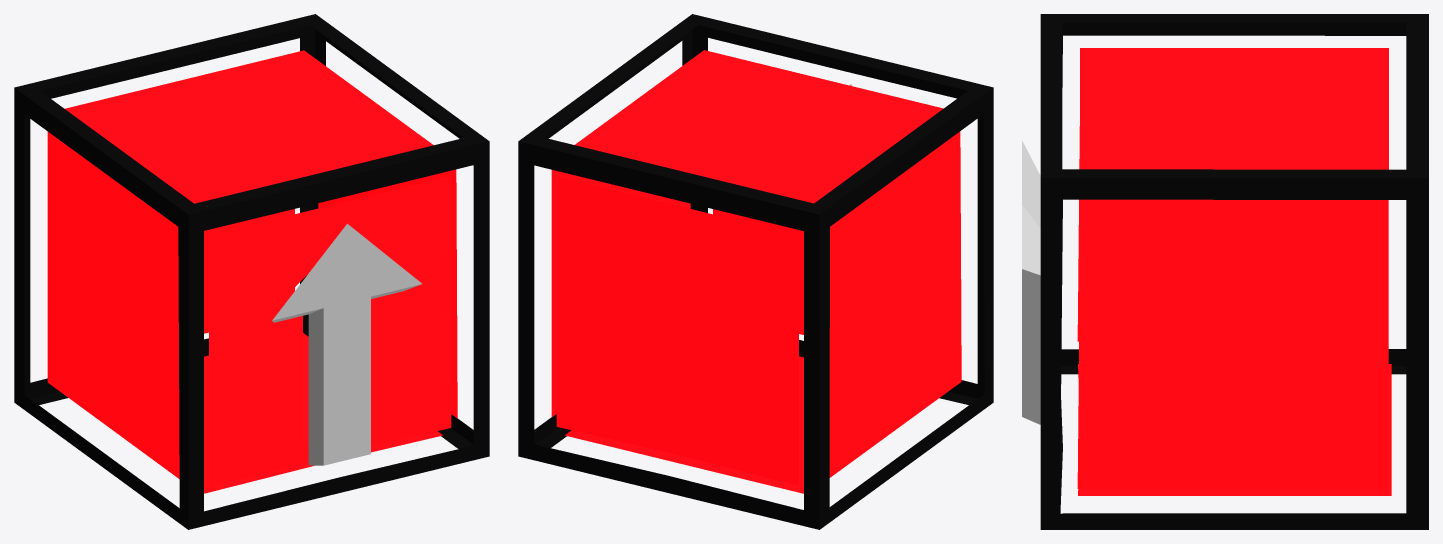
File: Red_Block.fbx
The picture shows the model from 3 angles, left to right: view 1: azimuth 30°, elevation 25°; view 2: azimuth 150°, elevation 25°; view 3: azimuth 270°, elevation 25°; orthographic projection. The views are drawn at different scales.
Visible parts, largest first — view 1: Cube.002, Cube, Cube.001; view 2: Cube.002, Cube; view 3: Cube.002, Cube, Cube.001.
Boxes of the visible parts, x1=… form: Cube.002: x1=47, y1=50, x2=457, y2=493; Cube: x1=14, y1=14, x2=489, y2=529; Cube.001: x1=272, y1=223, x2=421, y2=465; Cube.002: x1=551, y1=50, x2=961, y2=493; Cube: x1=518, y1=14, x2=993, y2=529; Cube.002: x1=1077, y1=48, x2=1391, y2=495; Cube: x1=1040, y1=14, x2=1428, y2=529; Cube.001: x1=1022, y1=140, x2=1040, y2=424.
Size of the model in its own units: 200 by 200 by 210.
